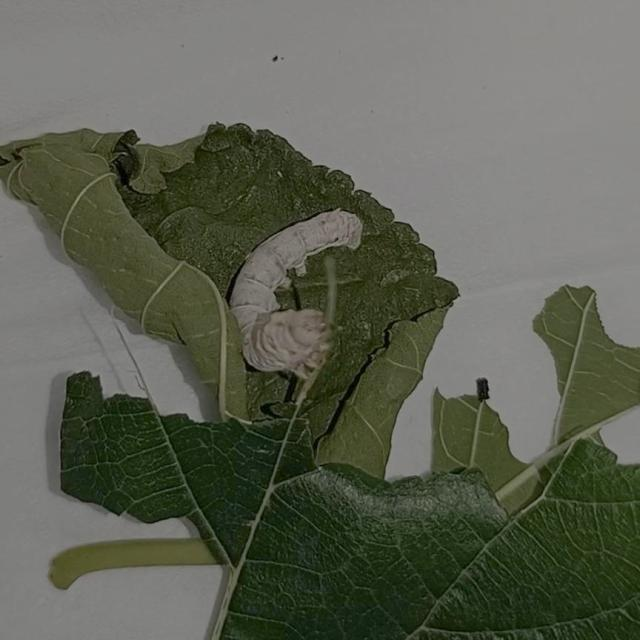Healthy: (226, 192, 379, 398)
